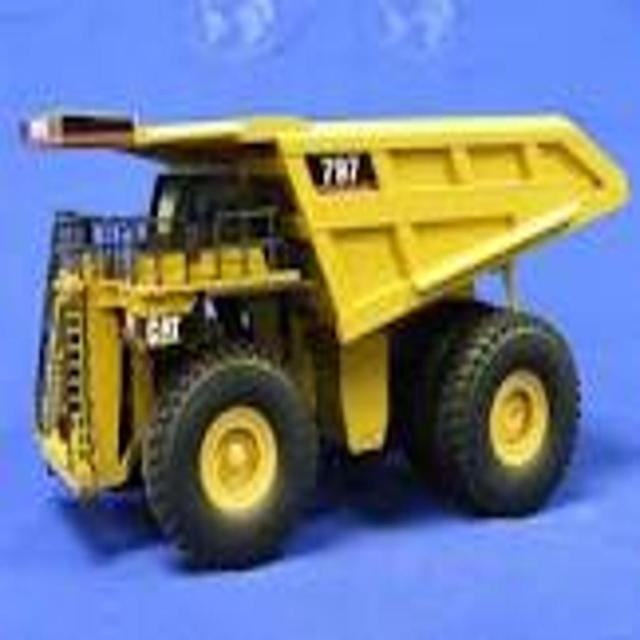dump_truck: (23, 85, 633, 568)
